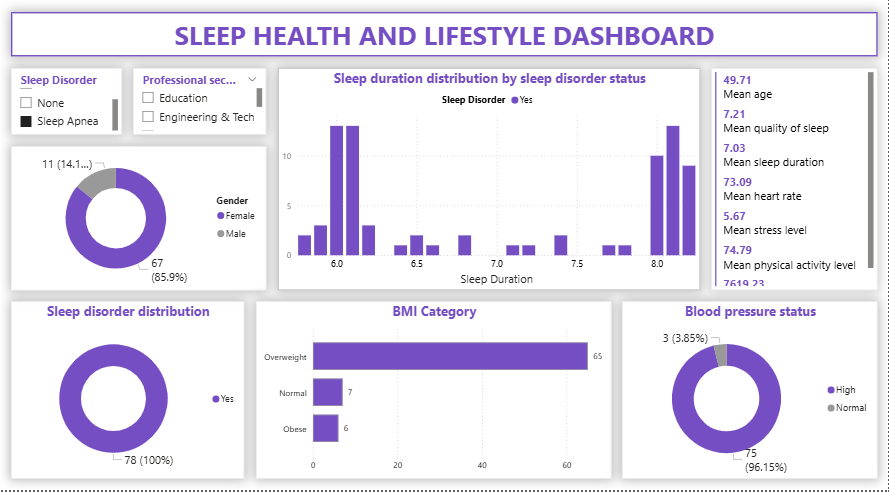

What the dashboard file says about the page in this screenshot:
{"tool":"powerbi","page":{"name":"Page 1","canvas":[1280,720],"ordinal":0},"visuals":[{"type":"textbox","box":[16,32,1248,64],"z":0},{"type":"donutChart","title":"Sleep disorder distribution","fields":{"Y":["CountNonNull(sleep_dataset_cleaned.Column1)"],"Category":["sleep_dataset_cleaned.Sleep_Disorder_Flag"]},"box":[16,448,336,256],"z":1000},{"type":"donutChart","title":"Gender distribution","fields":{"Category":["sleep_dataset_cleaned.Gender"],"Y":["CountNonNull(sleep_dataset_cleaned.Column1)"]},"box":[16,224,368,208],"z":2000},{"type":"slicer","fields":{"Values":["sleep_dataset_cleaned.Sleep Disorder"]},"box":[16,112,160,96],"z":3000},{"type":"slicer","fields":{"Values":["sleep_dataset_cleaned.Occupation_Group"]},"box":[192,112,192,96],"z":4000},{"type":"barChart","title":"BMI Category","fields":{"Category":["sleep_dataset_cleaned.BMI Category"],"Y":["CountNonNull(sleep_dataset_cleaned.Column1)"]},"box":[368,448,512,256],"z":5000},{"type":"donutChart","title":"Blood pressure status","fields":{"Y":["CountNonNull(sleep_dataset_cleaned.Column1)"],"Category":["sleep_dataset_cleaned.BP_Category"]},"box":[896,448,368,256],"z":6000},{"type":"multiRowCard","fields":{"Values":["Avg(sleep_dataset_cleaned.Age)","Avg(sleep_dataset_cleaned.Quality of Sleep)","Avg(sleep_dataset_cleaned.Sleep Duration)","Avg(sleep_dataset_cleaned.Heart Rate)","Avg(sleep_dataset_cleaned.Stress Level)","Avg(sleep_dataset_cleaned.Physical Activity Level)","Avg(sleep_dataset_cleaned.Daily Steps)"]},"box":[1024,112,240,320],"z":7000},{"type":"columnChart","title":"Sleep duration distribution by sleep disorder status","fields":{"Category":["sleep_dataset_cleaned.Sleep Duration"],"Y":["CountNonNull(sleep_dataset_cleaned.Person ID)"],"Series":["sleep_dataset_cleaned.Sleep_Disorder_Flag"]},"box":[400,112,608,320],"z":8000}]}

Visuals, with their boxes in screenshot pixels (x1, y1, x2, y2), scaled from the page's 1280x720 canvas onto the 889x492 screenshot:
textbox: left=11, top=22, right=878, bottom=66
"Sleep disorder distribution" donutChart: left=11, top=306, right=244, bottom=481
"Gender distribution" donutChart: left=11, top=153, right=267, bottom=295
slicer - sleep_dataset_cleaned.Sleep Disorder: left=11, top=77, right=122, bottom=142
slicer - sleep_dataset_cleaned.Occupation_Group: left=133, top=77, right=267, bottom=142
"BMI Category" barChart: left=256, top=306, right=611, bottom=481
"Blood pressure status" donutChart: left=622, top=306, right=878, bottom=481
multiRowCard - Avg(sleep_dataset_cleaned.Age) x Avg(sleep_dataset_cleaned.Quality of Sleep): left=711, top=77, right=878, bottom=295
"Sleep duration distribution by sleep disorder status" columnChart: left=278, top=77, right=700, bottom=295
